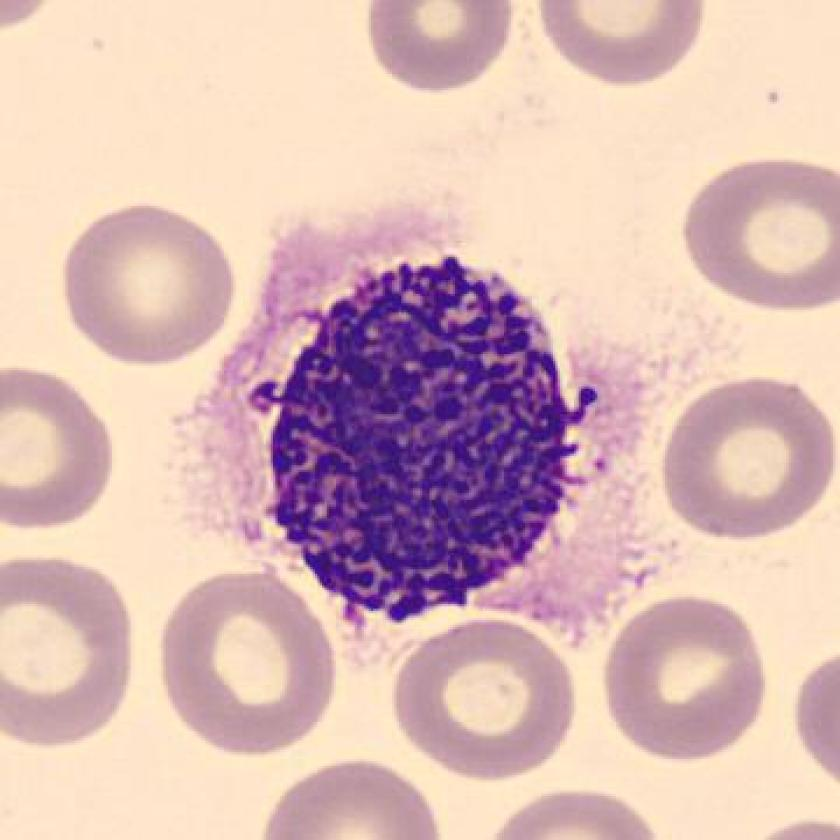basophil: (272, 242, 573, 635)
